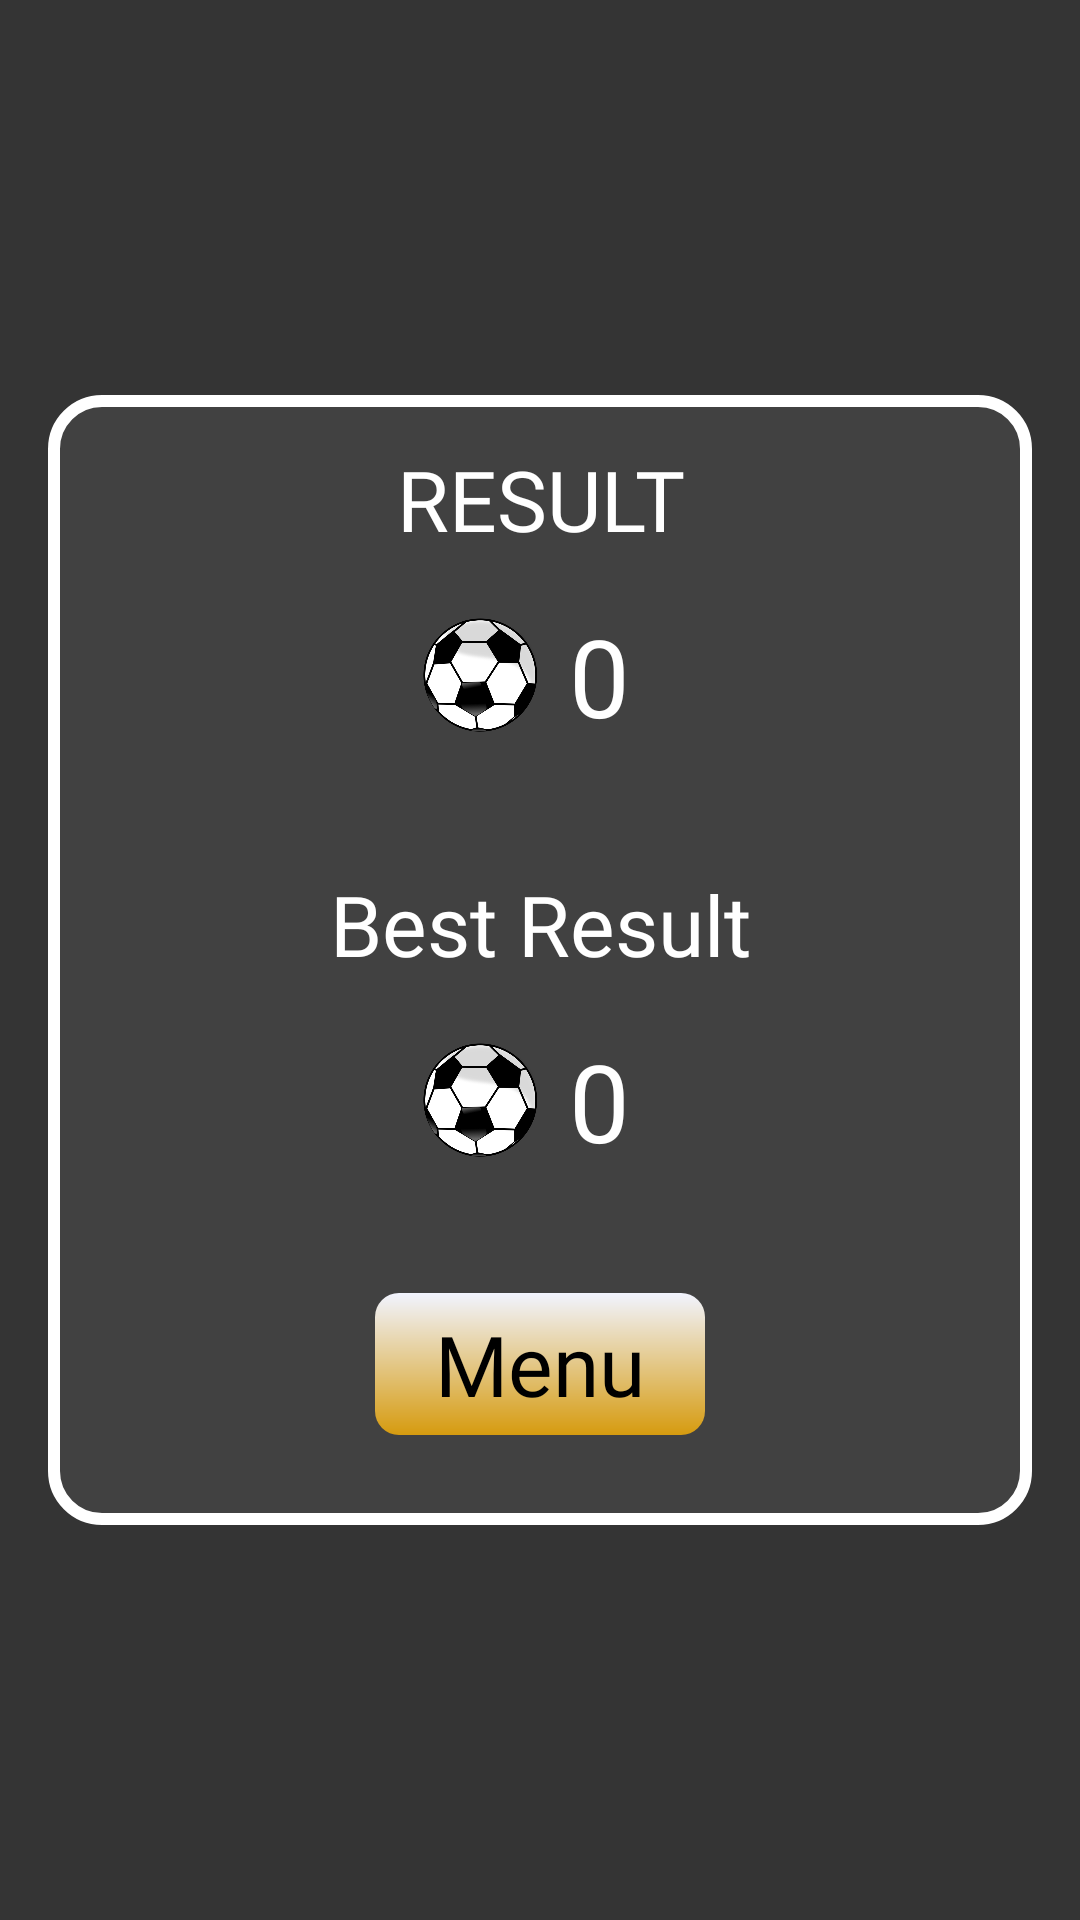

Point at icon controls on the screen. Image size 1080 × 1920, points as point (x, y).
balll: point (480, 675), point (480, 1100)
